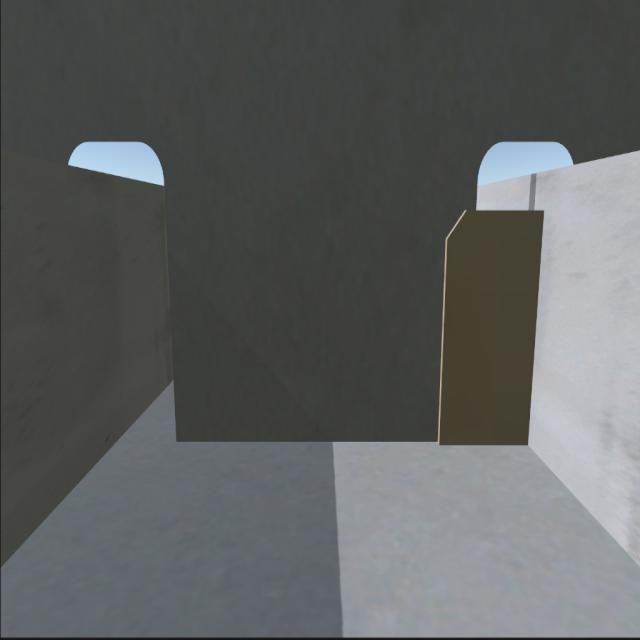fillet_yong_jeop_jang: (177, 438, 535, 451)
longi_yong_jeop_jang: (524, 223, 548, 462)
plate_CP03: (444, 214, 540, 445)
